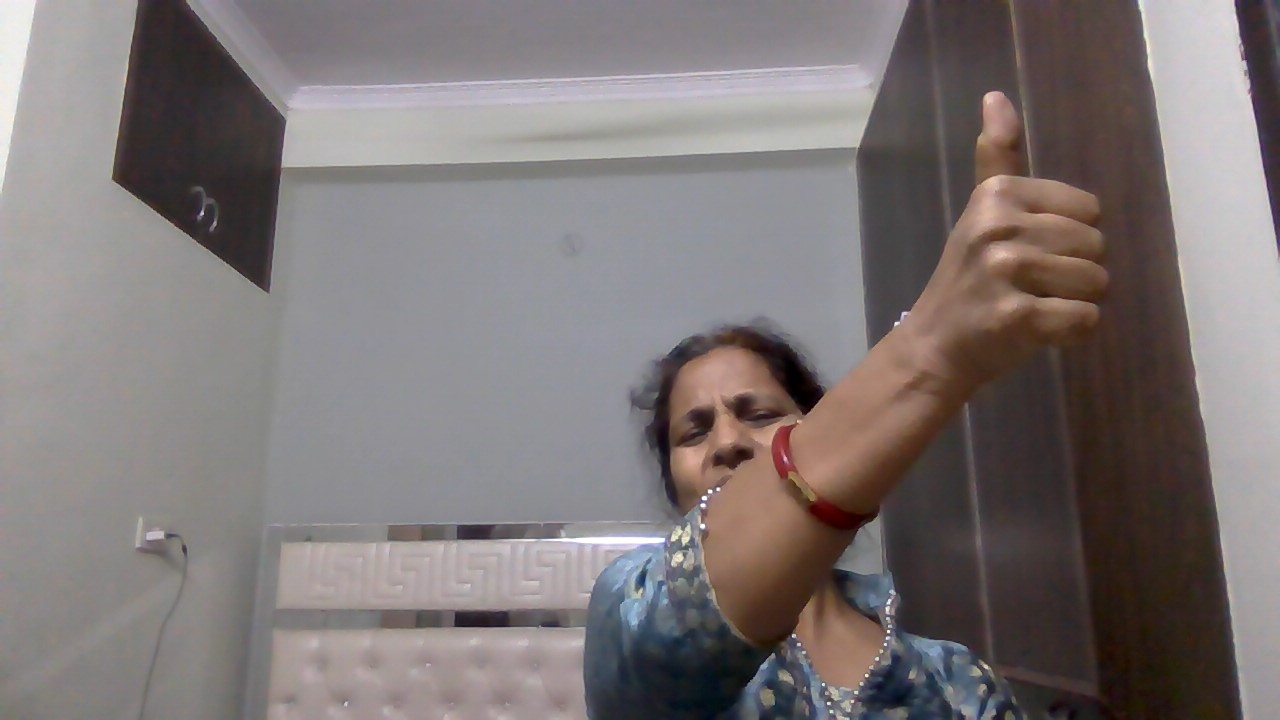Save: (914, 82, 1123, 408)
